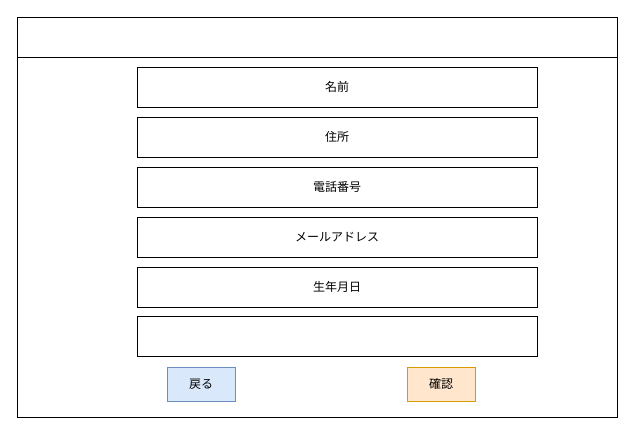
Some shapes in this 635 by 435 pixel diagram are drawn without their labels. Here are the shapes that lost their labels. From the top down, the centre of each, then its label:
[317,37]: 会員登録画面
[337,336]: パスワード
